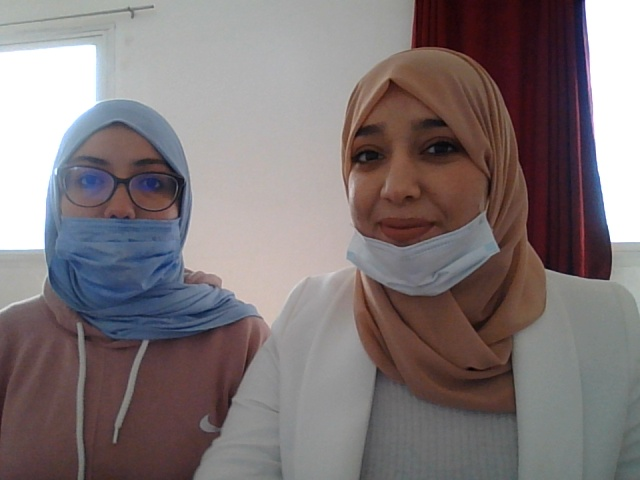mask_weared_incorrect: (345, 111, 510, 294), (54, 155, 187, 300)
